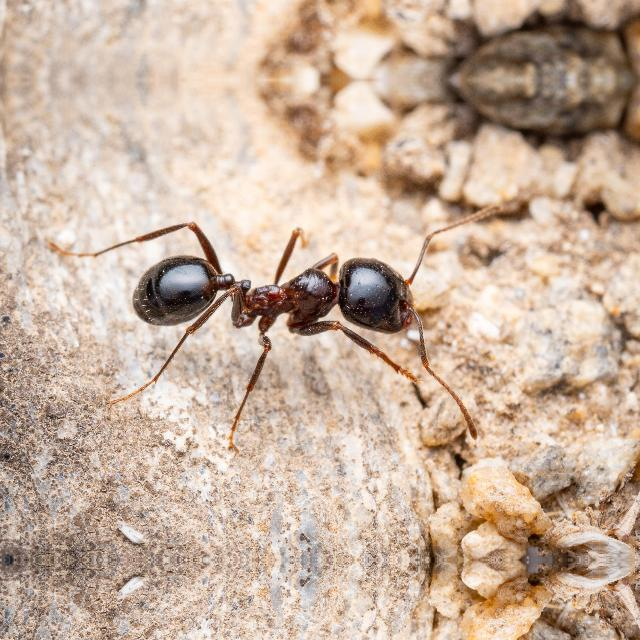Messor: (89, 212, 459, 386)
